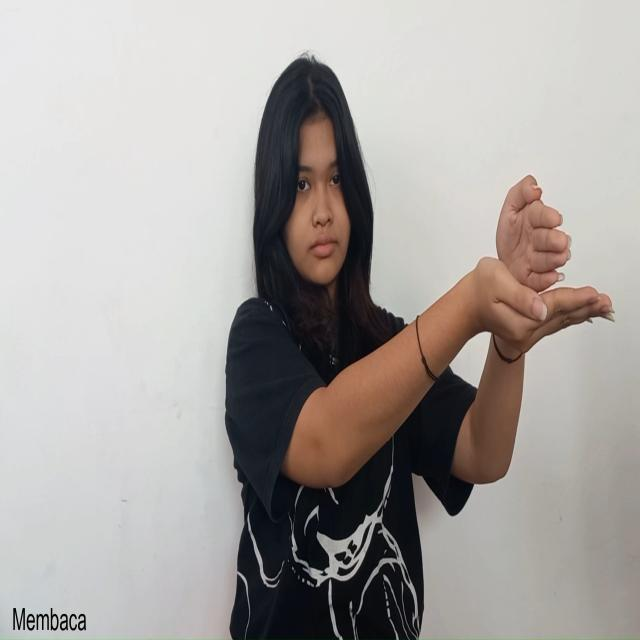Membaca -BISINDO-: (474, 174, 614, 355)
